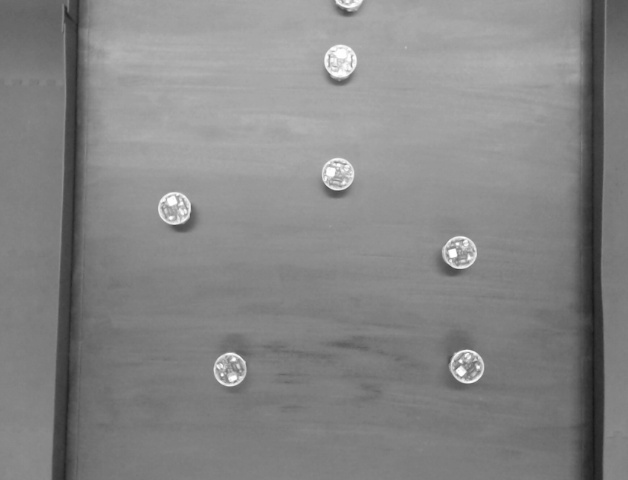epuck_2: (318, 143, 357, 200), (210, 346, 253, 394), (151, 188, 199, 230), (441, 342, 488, 384), (317, 42, 365, 82), (440, 236, 482, 271), (318, 1, 372, 16)
